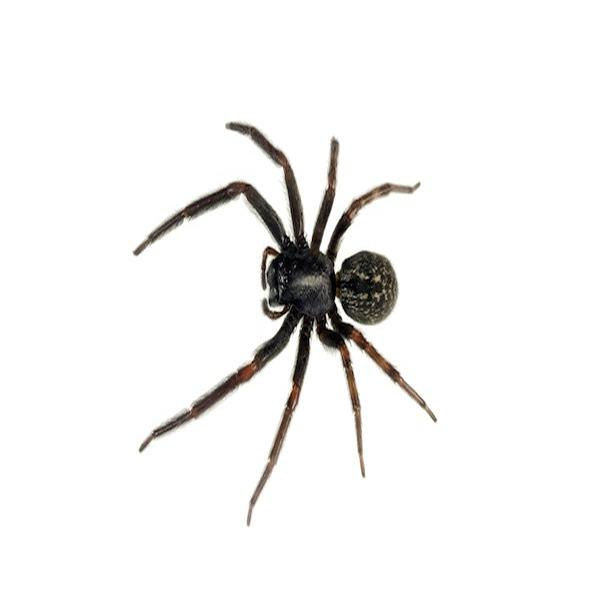White-Tailed Spider: (141, 125, 438, 525)
